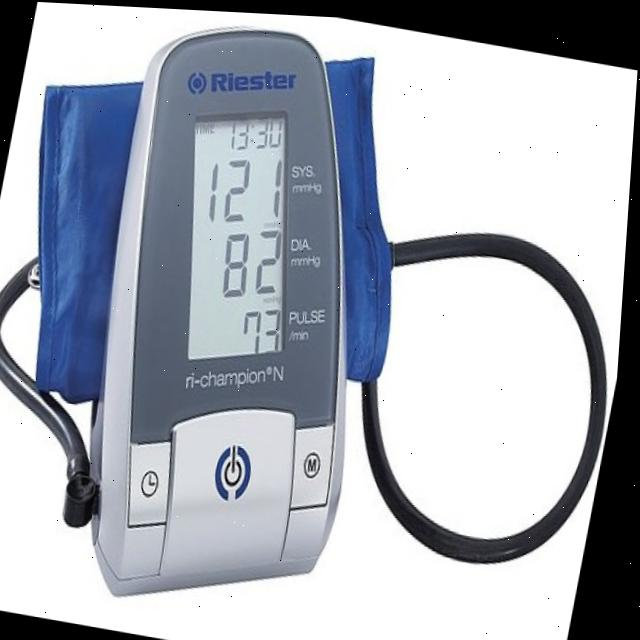dia: (221, 217, 287, 303)
pul: (245, 299, 289, 354)
ssd: (193, 111, 288, 357)
sys: (200, 144, 296, 222)
